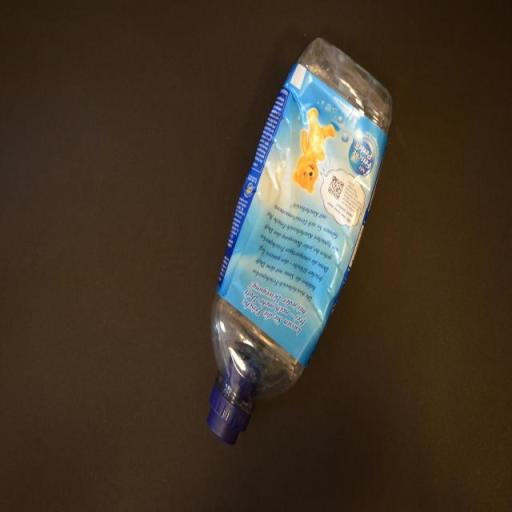plastic: (206, 34, 392, 448)
